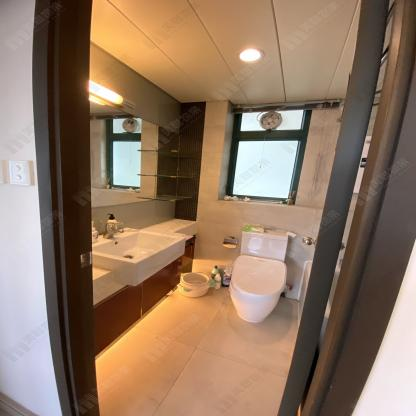Exhaust Fan: (260, 112, 283, 129)
Toilet: (228, 225, 290, 325)
Toilet Sink: (88, 228, 185, 287)
